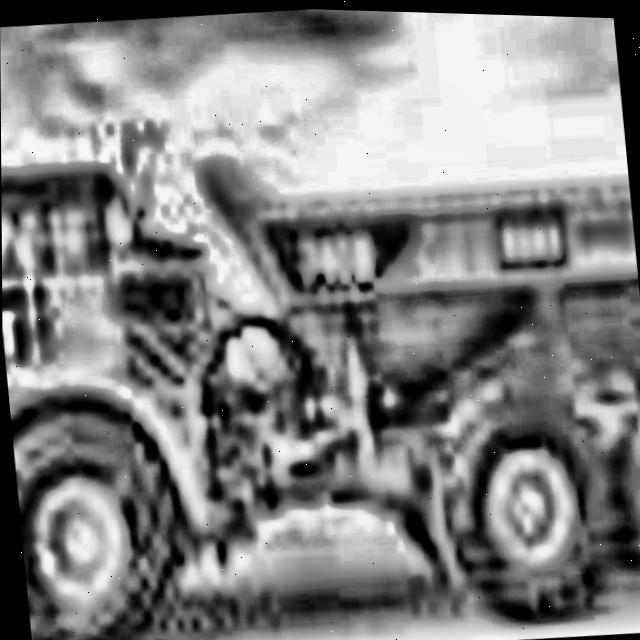dump_truck: (0, 68, 640, 640)
